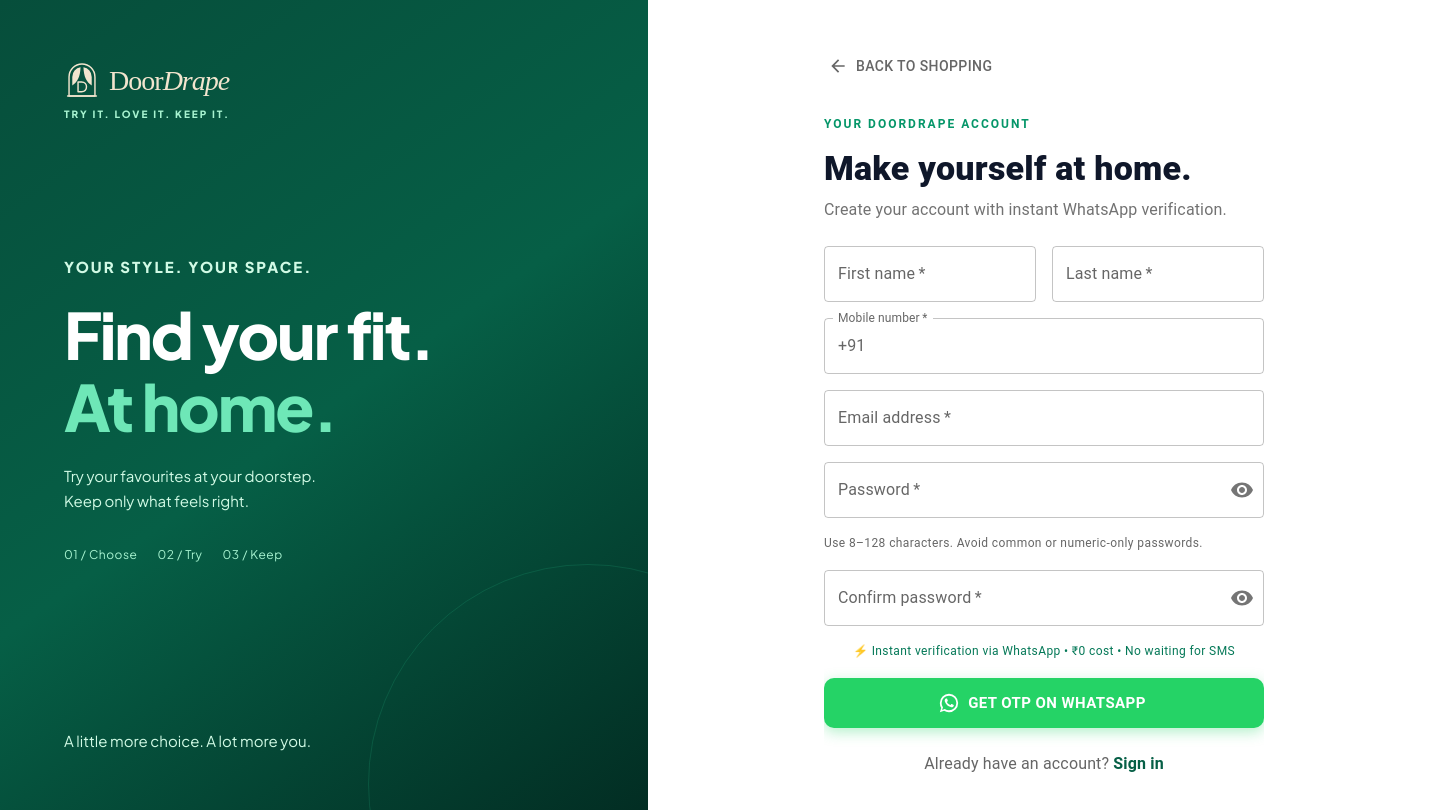
Test: signup rejects mismatched confirmation before requesting WhatsApp OTP
The width and height of the screenshot is (1440, 810).
expect the text "Create your account with instant WhatsApp verification." is shown: met, box [824,198,1264,222]
Type "New" into the field labelled "First name *".
click(930, 274); type("New")  # box [824,246,1036,302]
Type "User" into the field labelled "Last name *".
click(1158, 274); type("User")  # box [1052,246,1264,302]
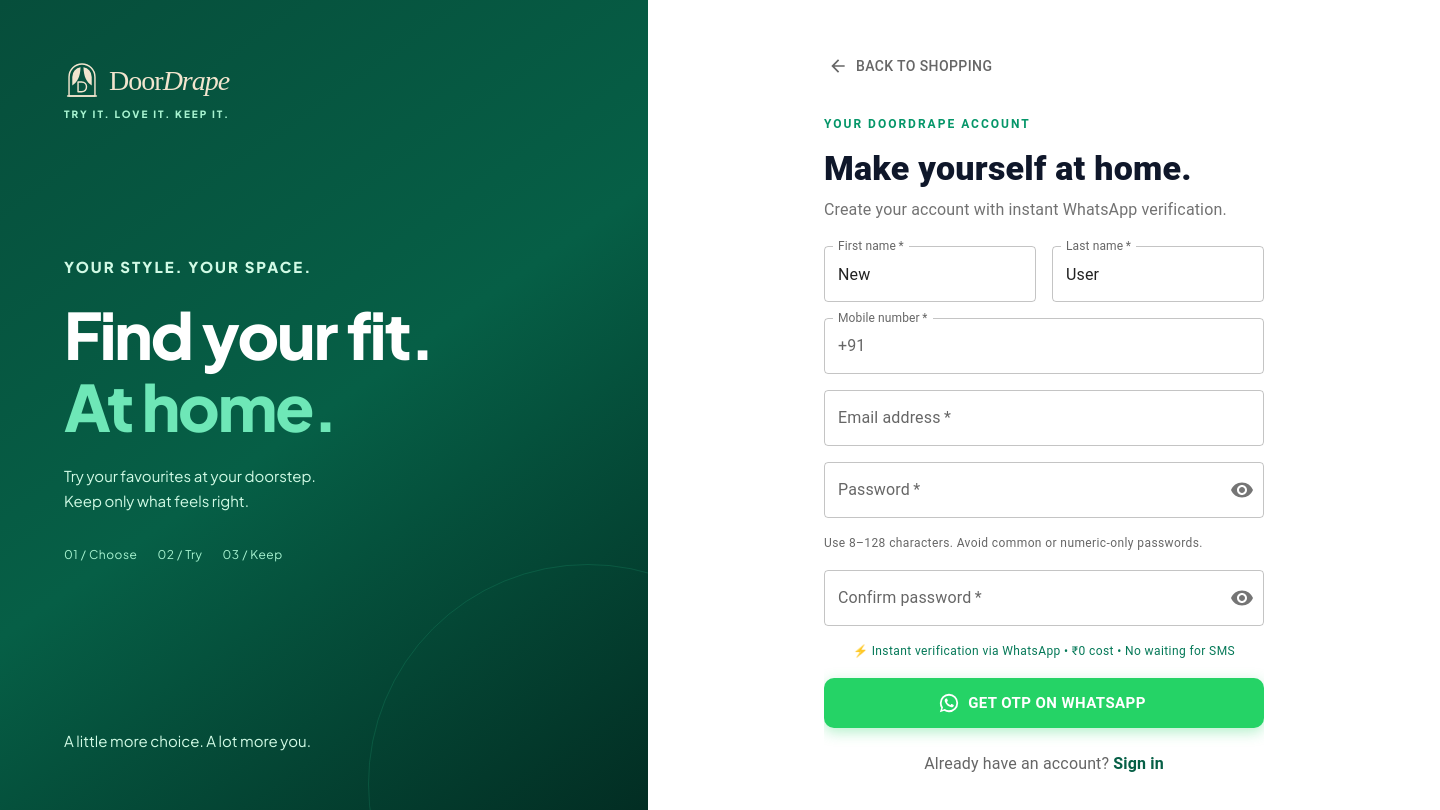
Type "9000000091" into the field labelled "Mobile number *".
click(1069, 346); type("9000000091")  # box [874,318,1264,374]
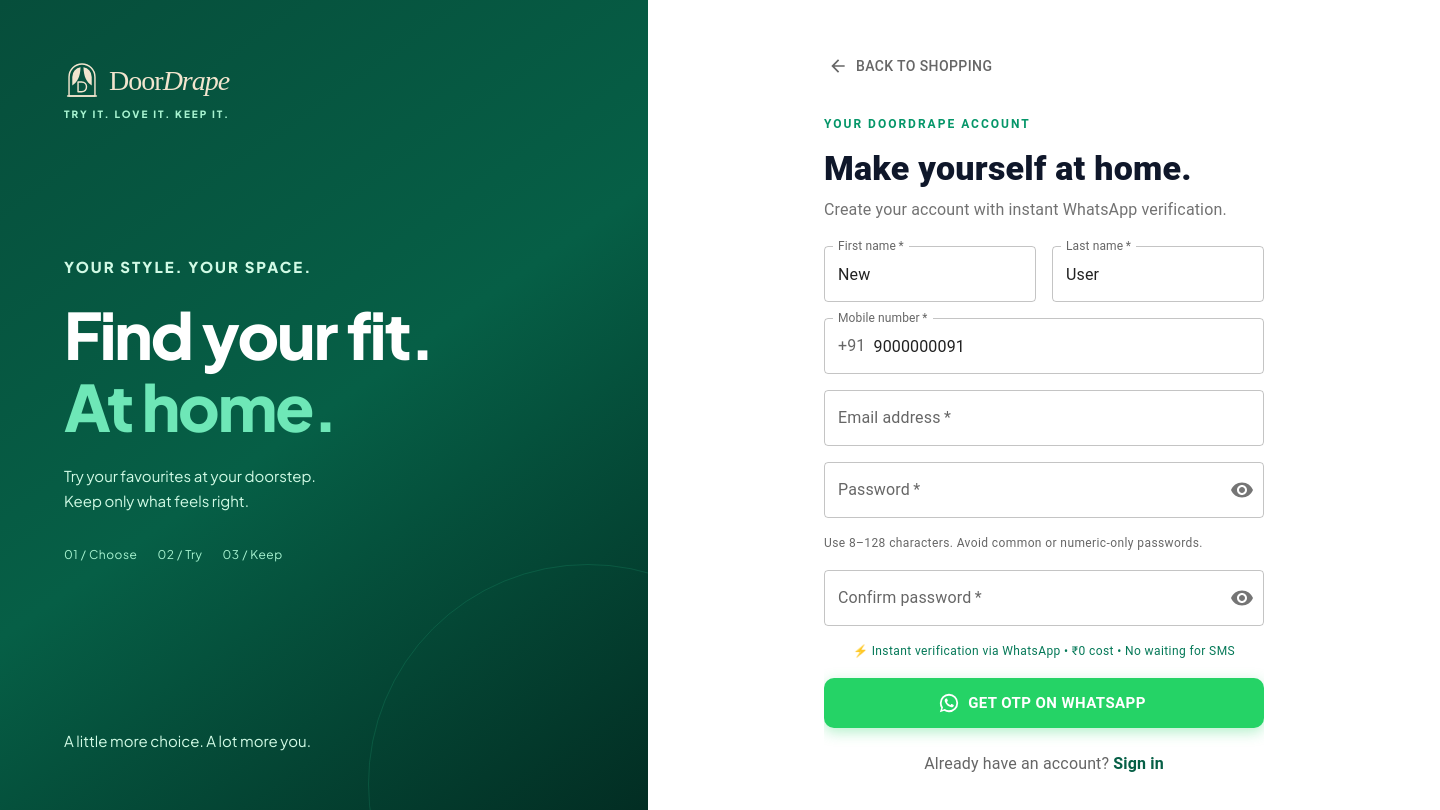
Type "new@example.test" into the field labelled "Email address *".
click(1044, 418); type("new@example.test")  # box [824,390,1264,446]
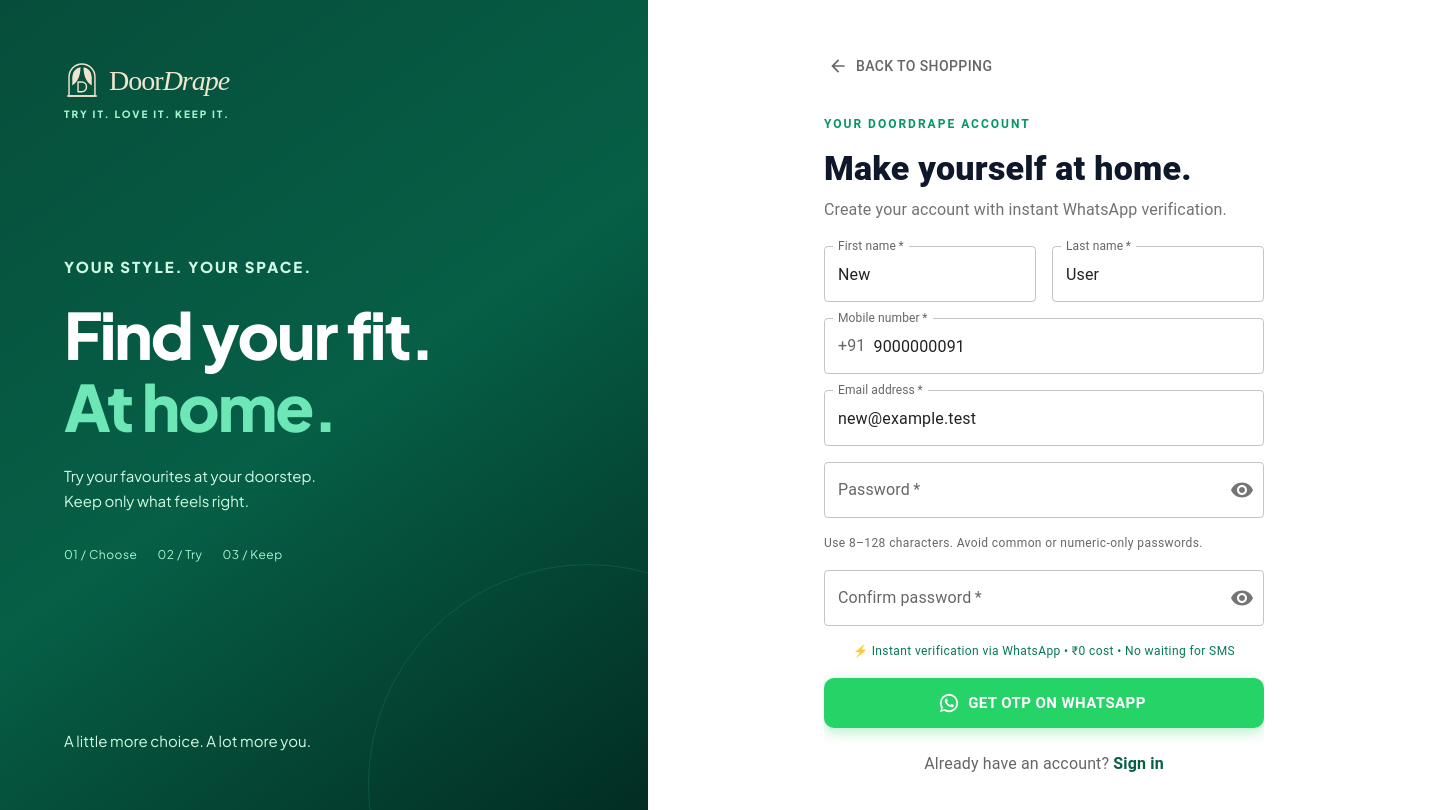
Type "Strong-example!429" into the password field labelled "Password *".
click(1019, 490); type("Strong-example!429")  # box [824,462,1214,518]
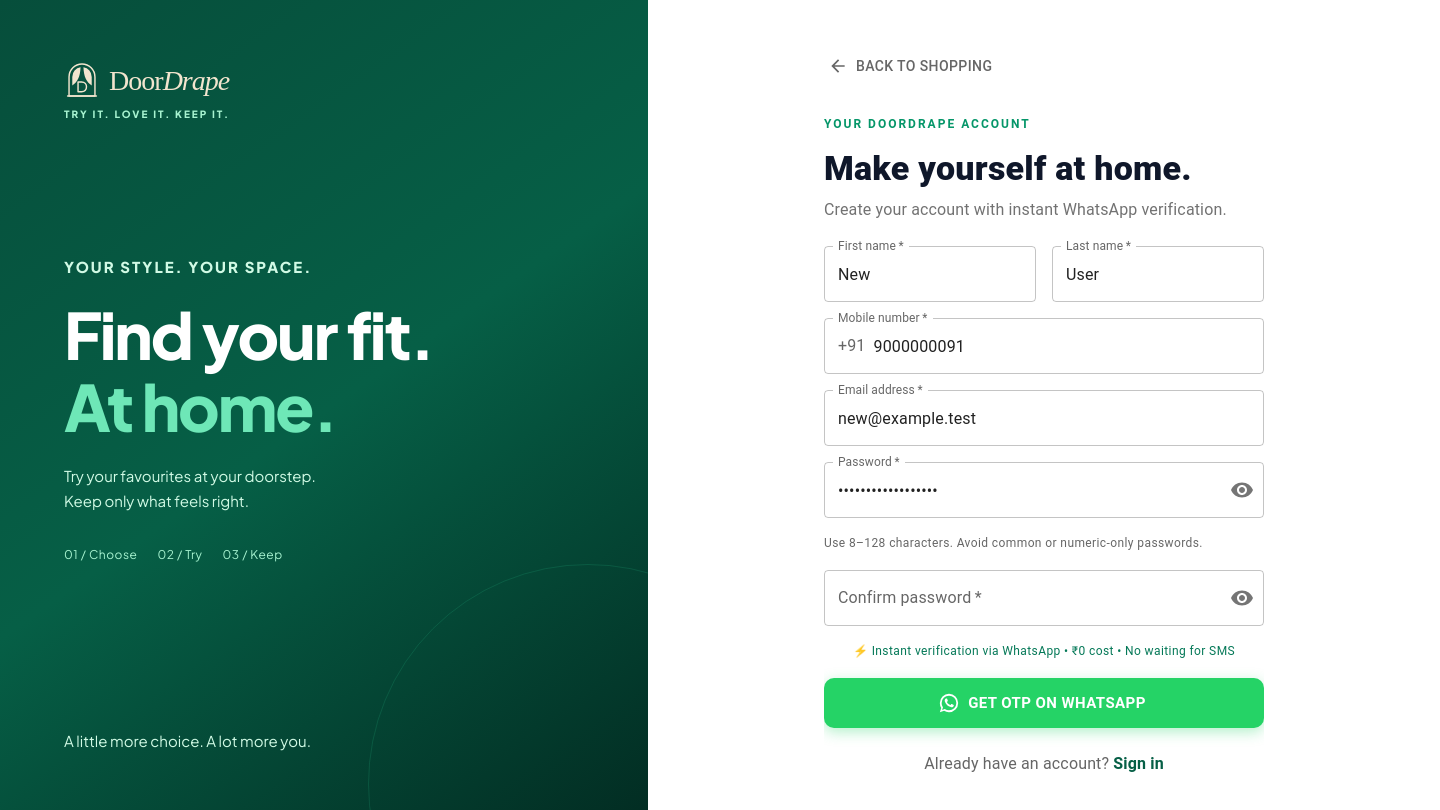
Type "different" into the password field labelled "Confirm password *".
click(1019, 598); type("different")  # box [824,570,1214,626]
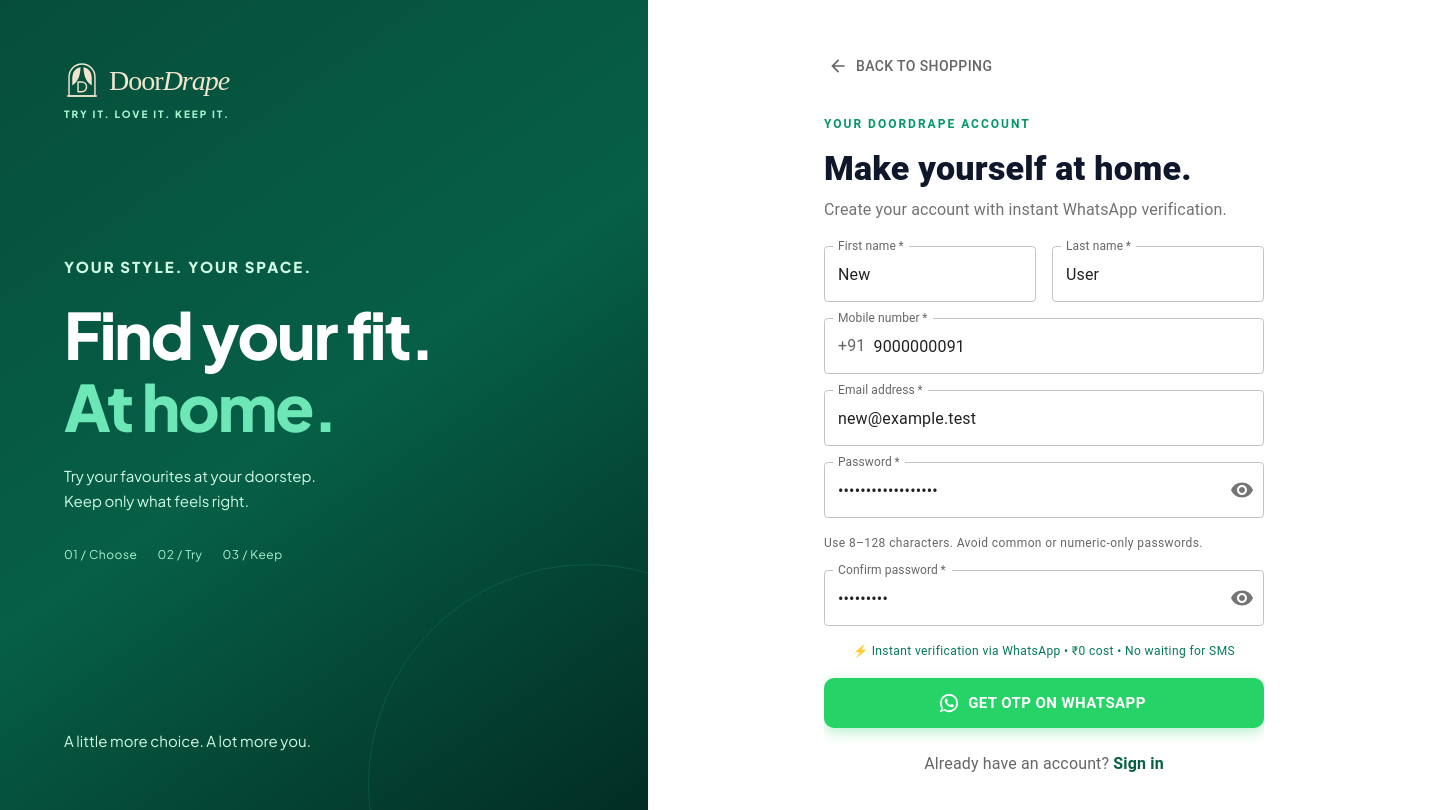
Click the button "Get OTP on WhatsApp".
click(1044, 703)  # box [824,678,1264,728]
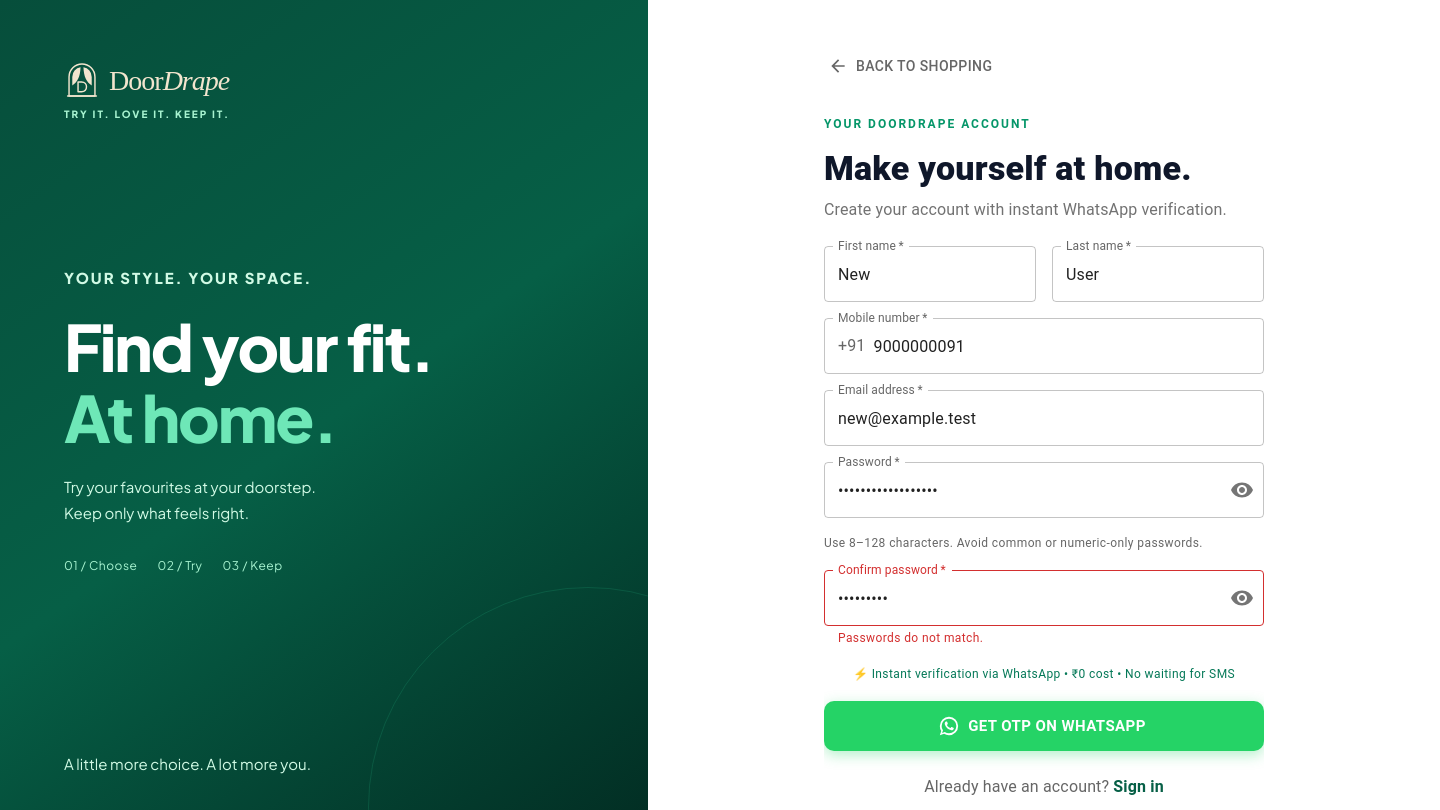
expect the text "Passwords do not match." is shown: met, box [838,631,983,645]
